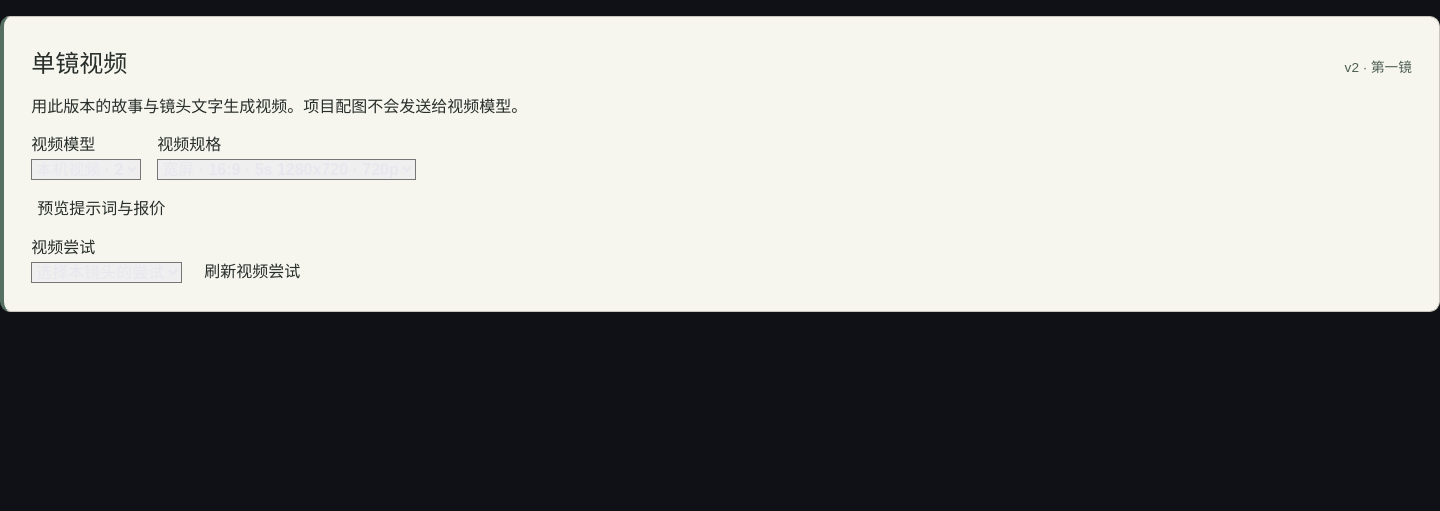
Scenario: creates only on confirmation and reads an uncertain attempt exclusively using its quote key
Step 1. Click the button "预览提示词与报价" → (101, 207), box [31,194,171,220]
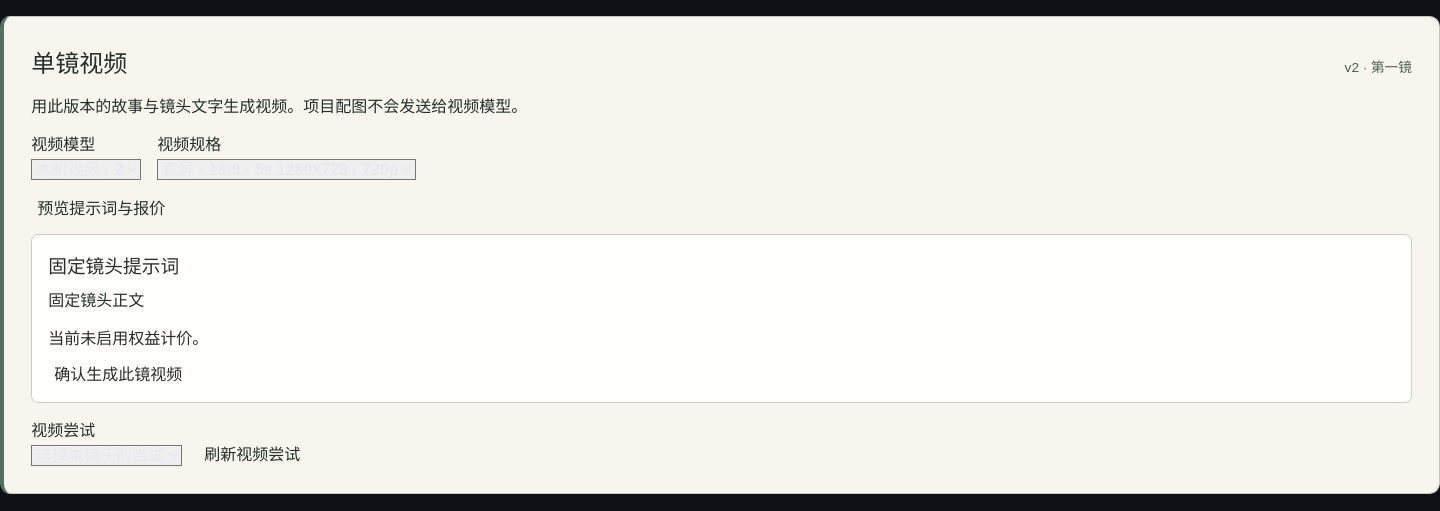
Result: the text "固定镜头正文" is shown at [48,292,144,309]
Result: the button "确认生成此镜视频" is shown
Step 2. Click the button "确认生成此镜视频" → (118, 373), box [48,360,188,386]
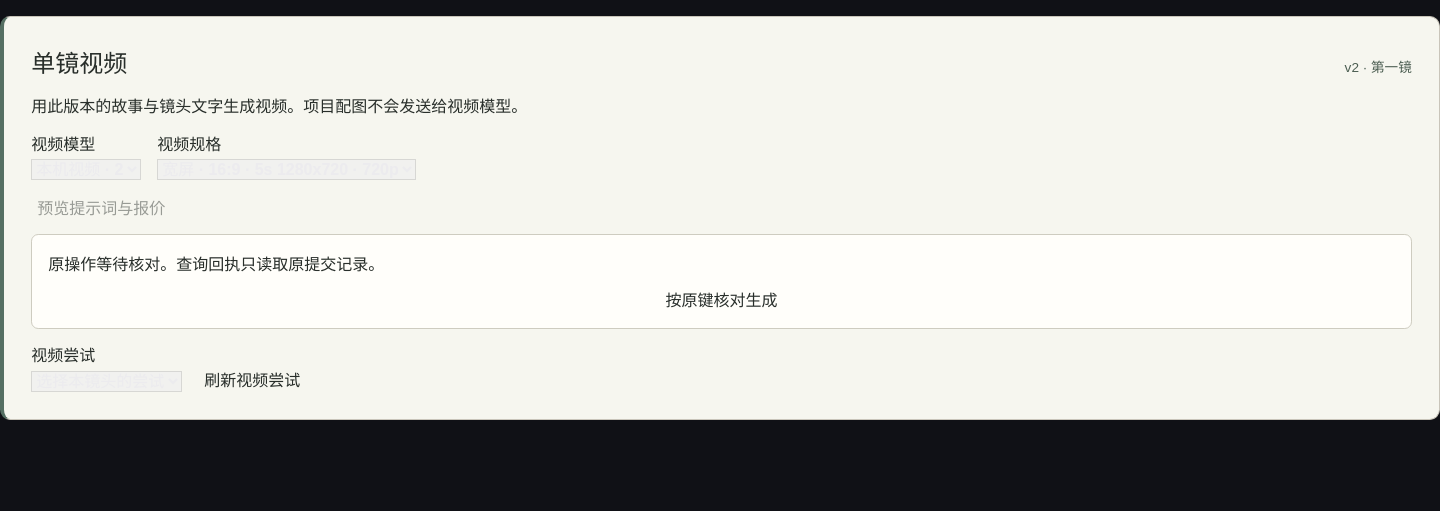
Result: the button "按原键核对生成" is shown
Step 3. Click the button "按原键核对生成" → (722, 299), box [48,286,1395,312]
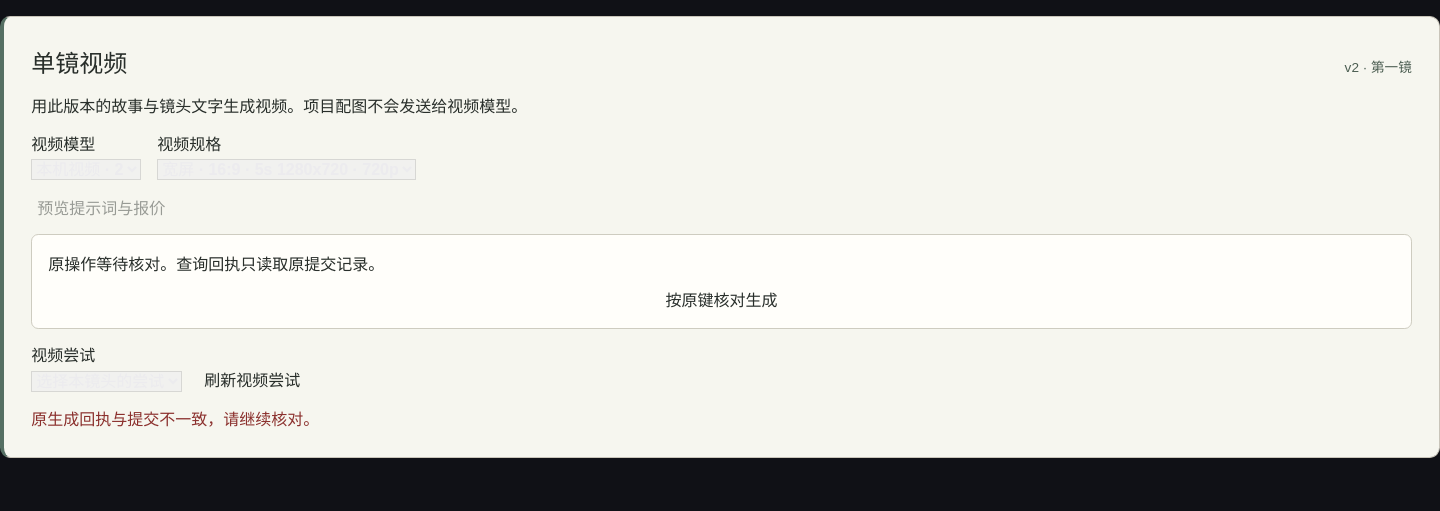
Result: the button "按原键核对生成" is shown
Step 4. Click the button "按原键核对生成" → (722, 299), box [48,286,1395,312]
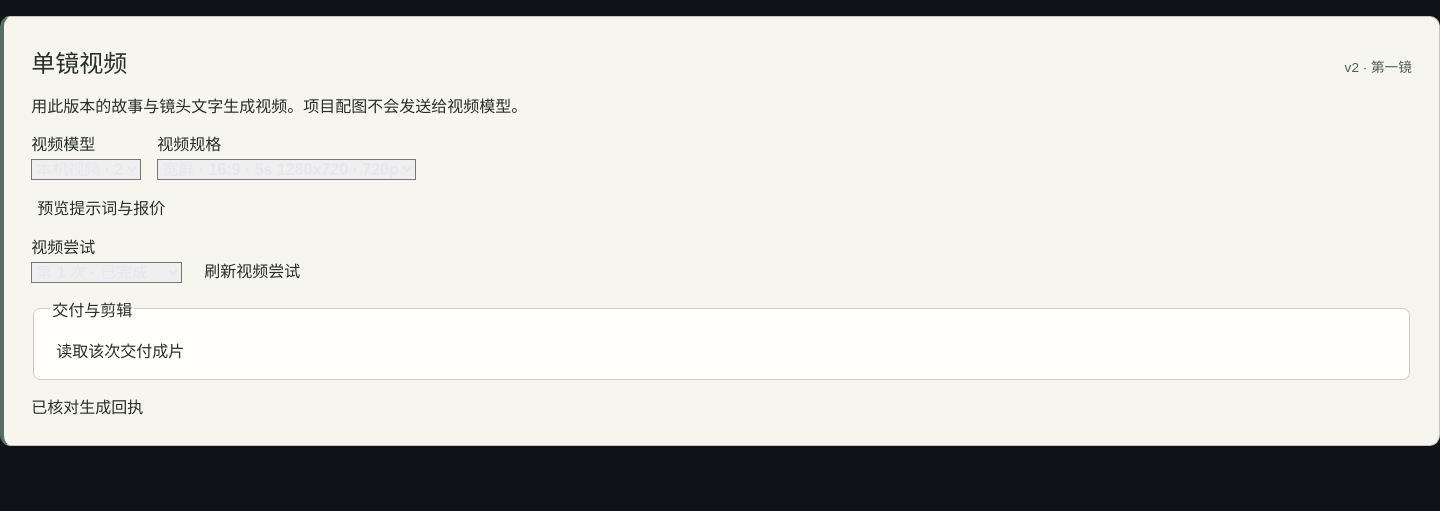
Result: the text "已核对生成回执" is shown at [31,398,143,416]
